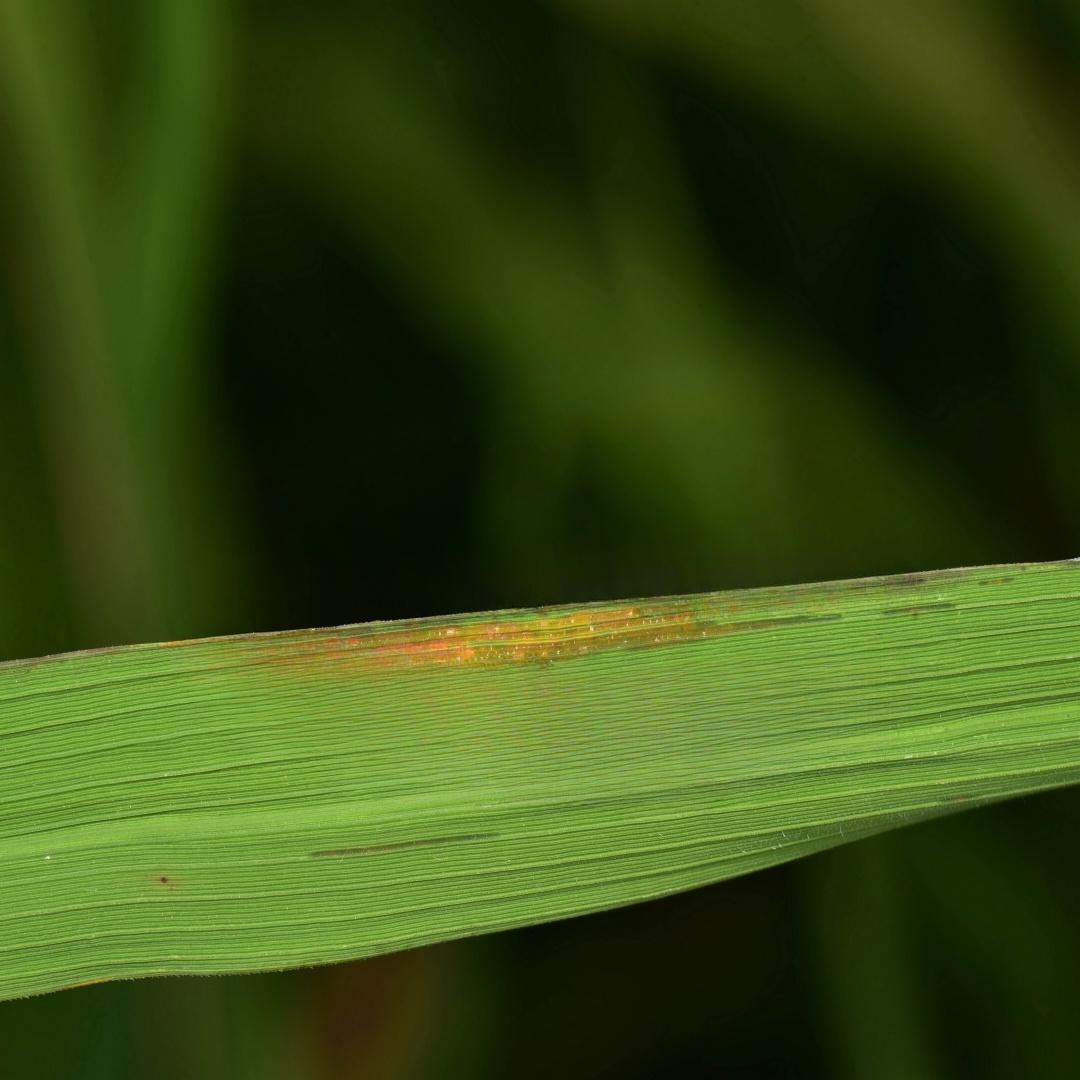BLS: (0, 559, 1079, 675), (311, 833, 501, 858), (883, 603, 958, 617), (977, 578, 1015, 586)
LEAF: (0, 557, 1079, 1003)
